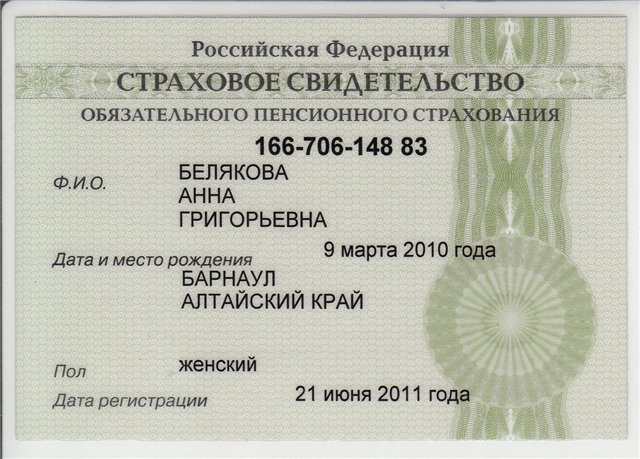text: (178, 266, 372, 315), (241, 131, 438, 162), (287, 381, 480, 408), (322, 238, 504, 262), (174, 205, 332, 232), (174, 159, 308, 183), (175, 354, 267, 376), (176, 181, 243, 206)
